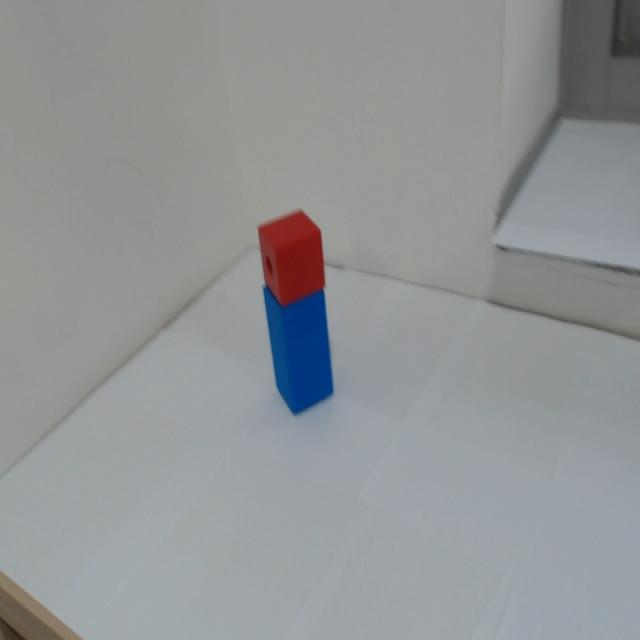cube: (247, 212, 341, 303)
